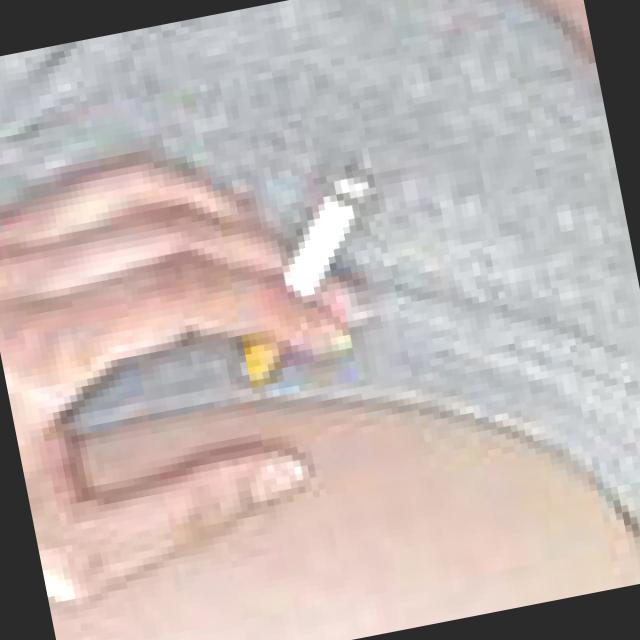cigarette: (288, 160, 398, 304)
